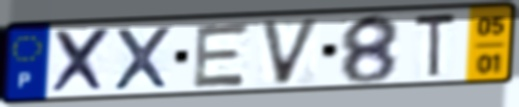8: (337, 11, 403, 86)
E: (189, 20, 254, 91)
T: (412, 10, 460, 82)
V: (257, 15, 324, 88)
X: (49, 25, 115, 96), (111, 24, 174, 93)
